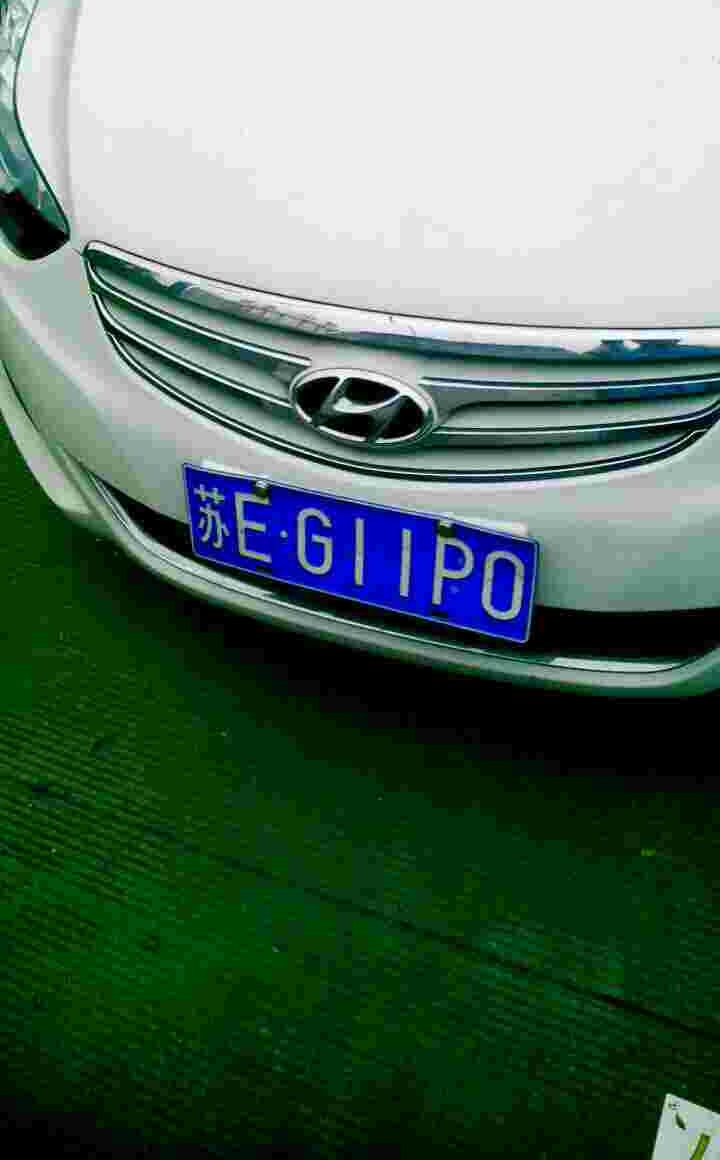license_plate: (180, 456, 550, 632)
